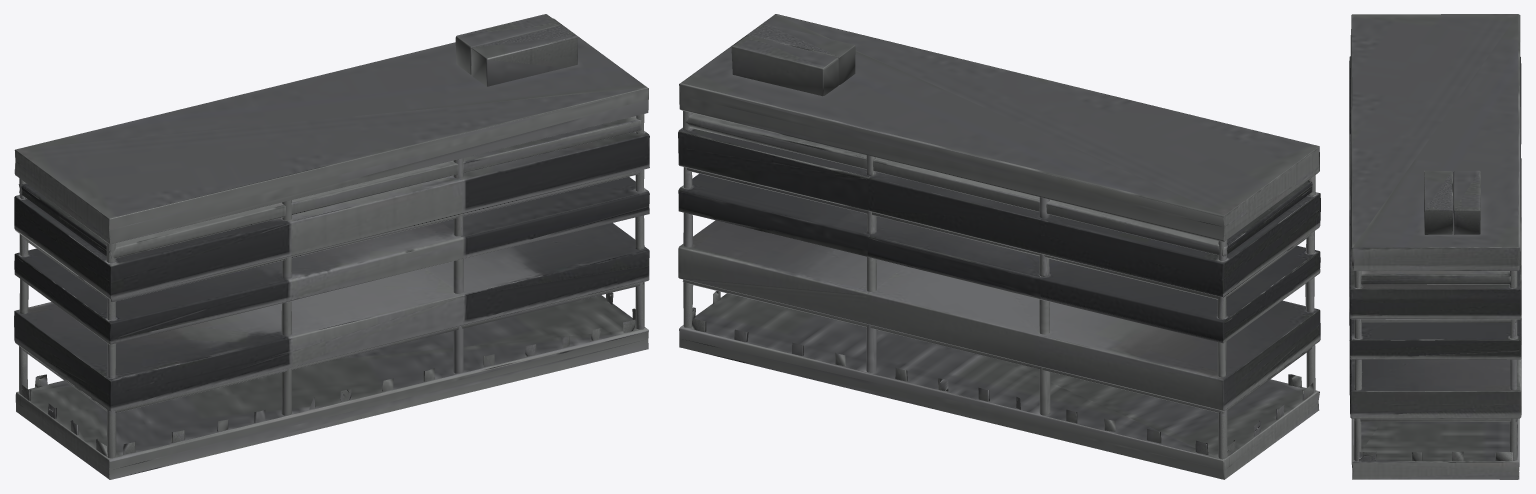
The model's file is parking_garage.glb.
3 renders of one model, left to right at view 1: azimuth 30°, elevation 25°; view 2: azimuth 150°, elevation 25°; view 3: azimuth 270°, elevation 25°, orthographic. The views are drawn at different scales.
Size of the model in its own units: 1 by 0.5152 by 0.3129.
1 material, 1 textured.
